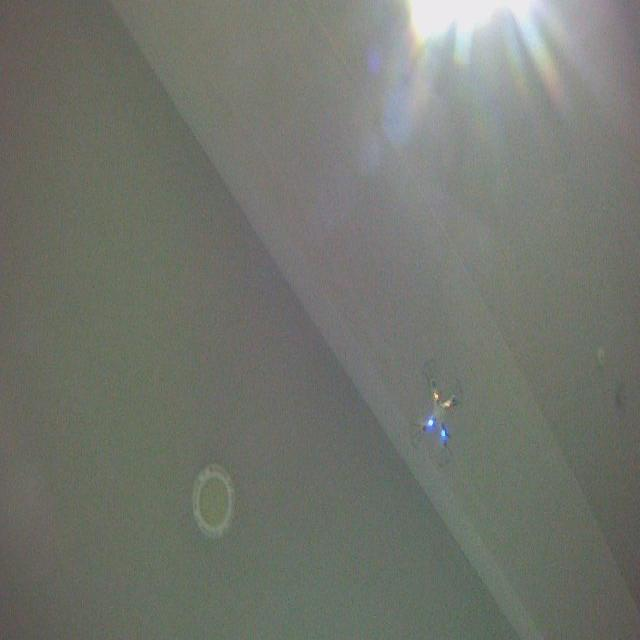drone: (406, 354, 466, 469)
